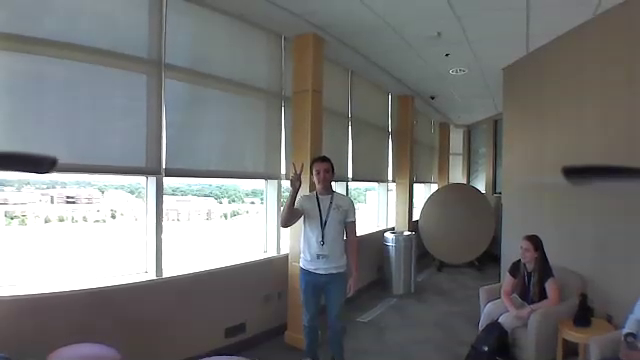peace: (285, 158, 308, 195)
